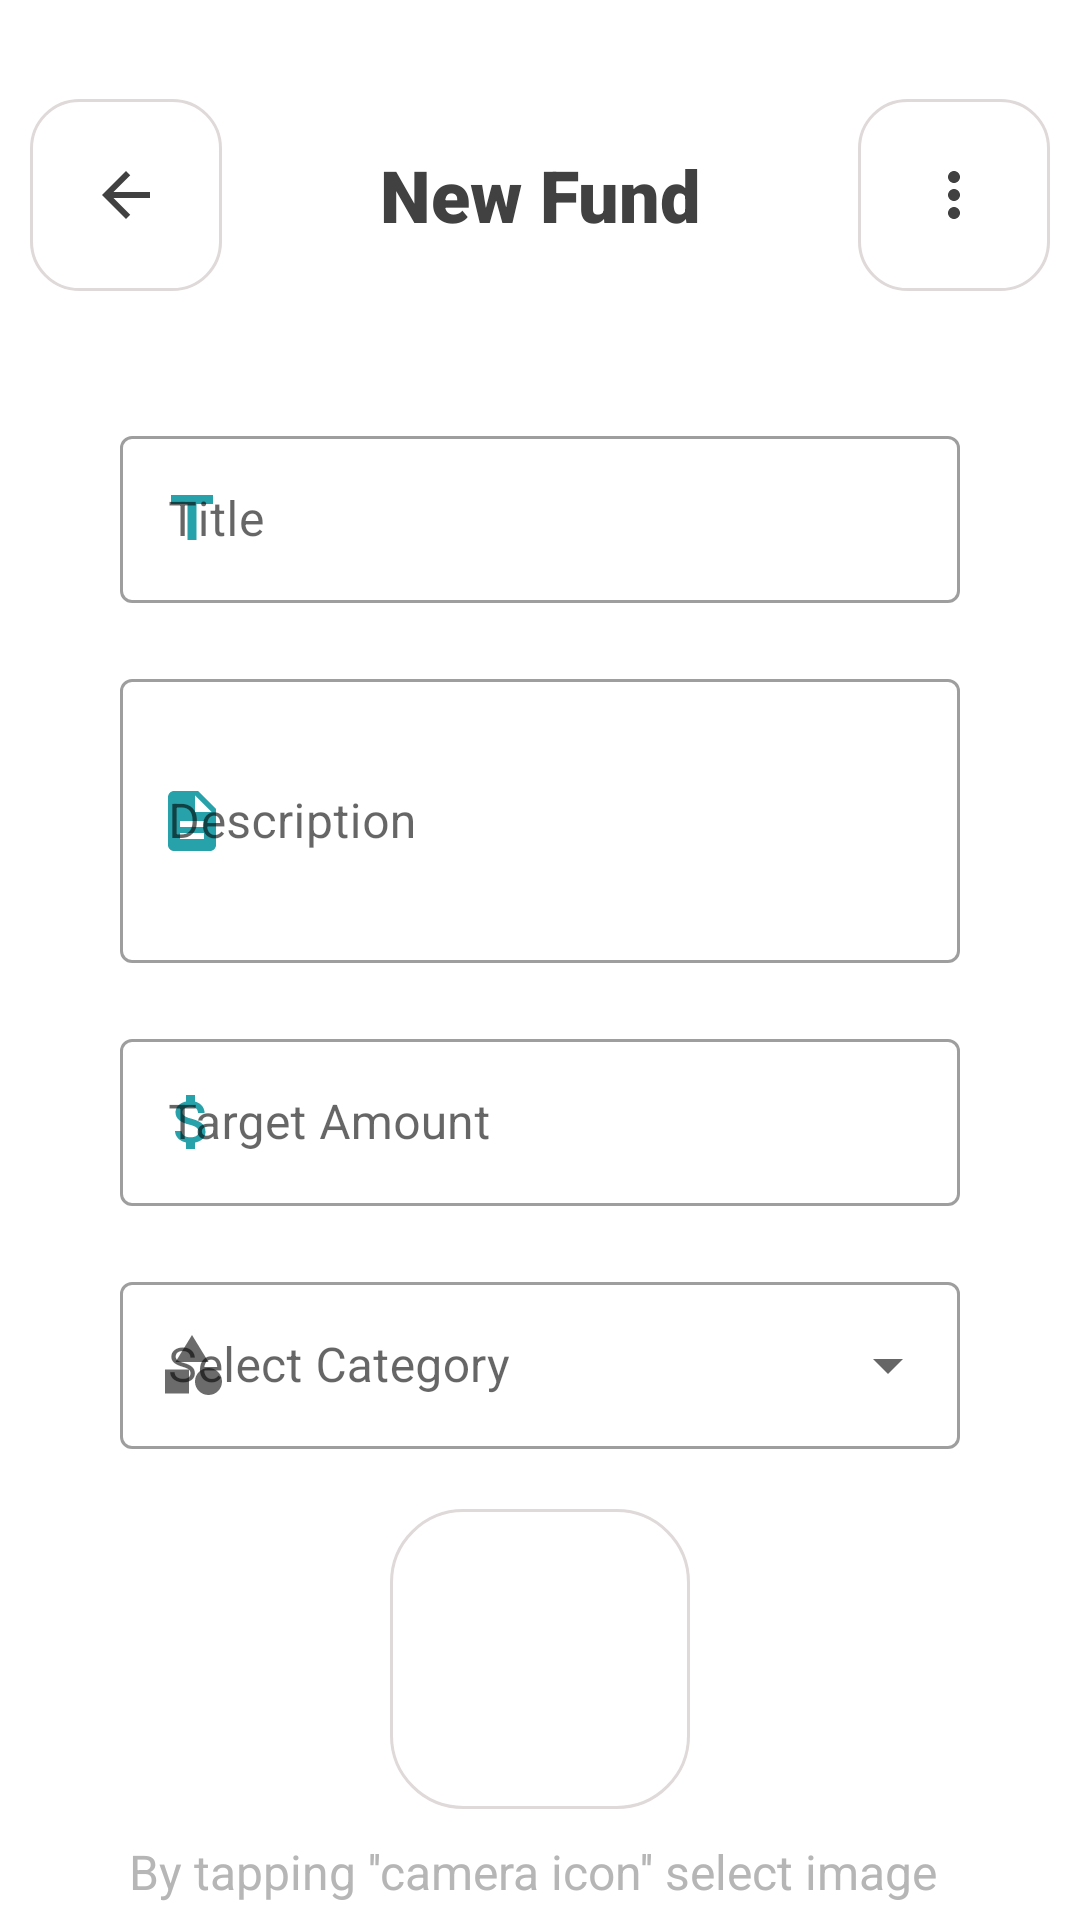

Icon bounding boxes for this 1080px×1920px phone screenshot, format (x1, y1, x2, y2):
arrow back: (30, 99, 222, 291)
more vert: (858, 99, 1050, 291)
